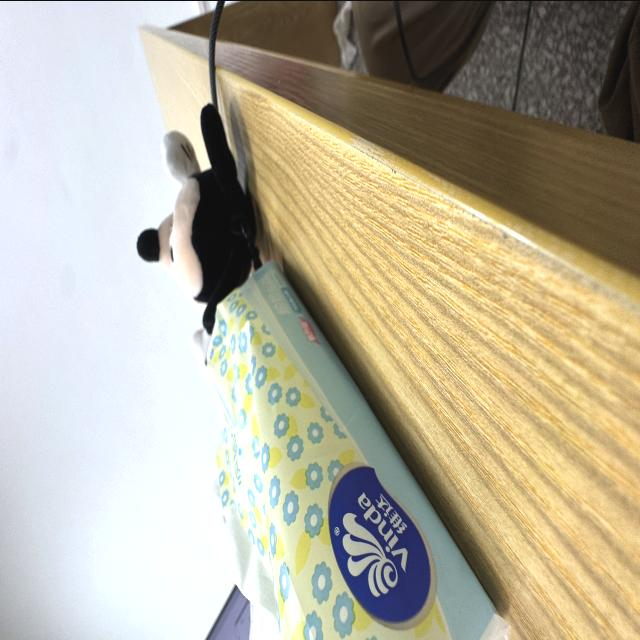mickey: (138, 104, 259, 381)
tissue: (207, 259, 510, 640)
